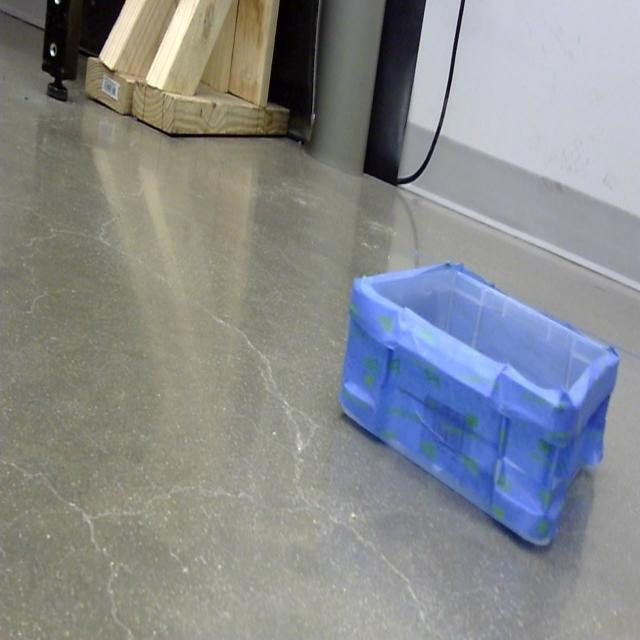bucket: (337, 262, 620, 551)
